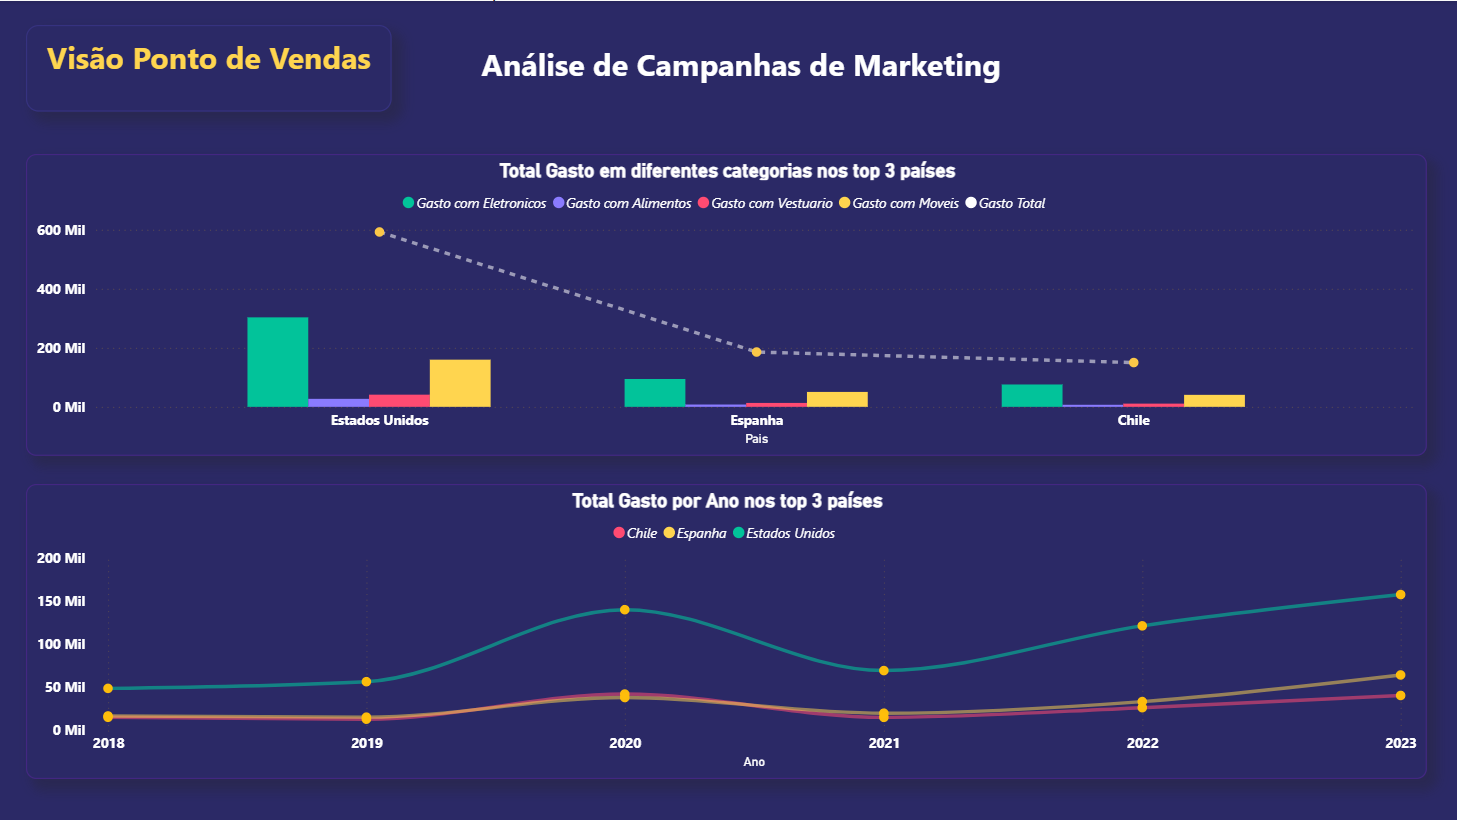

What the dashboard file says about the page in this screenshot:
{"tool":"powerbi","page":{"name":"Visão Ponto de Vendas","canvas":[1280,720],"ordinal":4},"visuals":[{"type":"textbox","box":[380,31.4,541.4,82.9],"z":0},{"type":"lineClusteredColumnComboChart","title":"Total Gasto em diferentes categorias nos top 3 países","fields":{"Y":["Sum(dados_mkt.Gasto com Eletronicos)","Sum(dados_mkt.Gasto com Alimentos)","Sum(dados_mkt.Gasto com Vestuario)","Sum(dados_mkt.Gasto com Moveis)"],"Y2":["Sum(dados_mkt.Total Gasto)"],"Category":["dados_mkt.Pais"]},"box":[23,134,1230,265],"z":1000},{"type":"textbox","box":[22.8,21.1,321.4,75.5],"z":2000},{"type":"lineChart","title":"Total Gasto por Ano nos top 3 países","fields":{"Category":["dim_calendario.Data.Variation.Hierarquia de datas.Ano","dim_calendario.Data.Variation.Hierarquia de datas.Mês"],"Y2":["Sum(dados_mkt.Total Gasto)"],"Series":["dados_mkt.Pais"]},"box":[23,424,1230,259],"z":3000}]}

Visuals, with their boxes in screenshot pixels (x1, y1, x2, y2), scaled from the page's 1280x720 canvas onto the 1457x820 screenshot:
textbox: select_region(433, 36, 1049, 130)
"Total Gasto em diferentes categorias nos top 3 países" lineClusteredColumnComboChart: select_region(26, 153, 1426, 454)
textbox: select_region(26, 24, 392, 110)
"Total Gasto por Ano nos top 3 países" lineChart: select_region(26, 483, 1426, 778)
